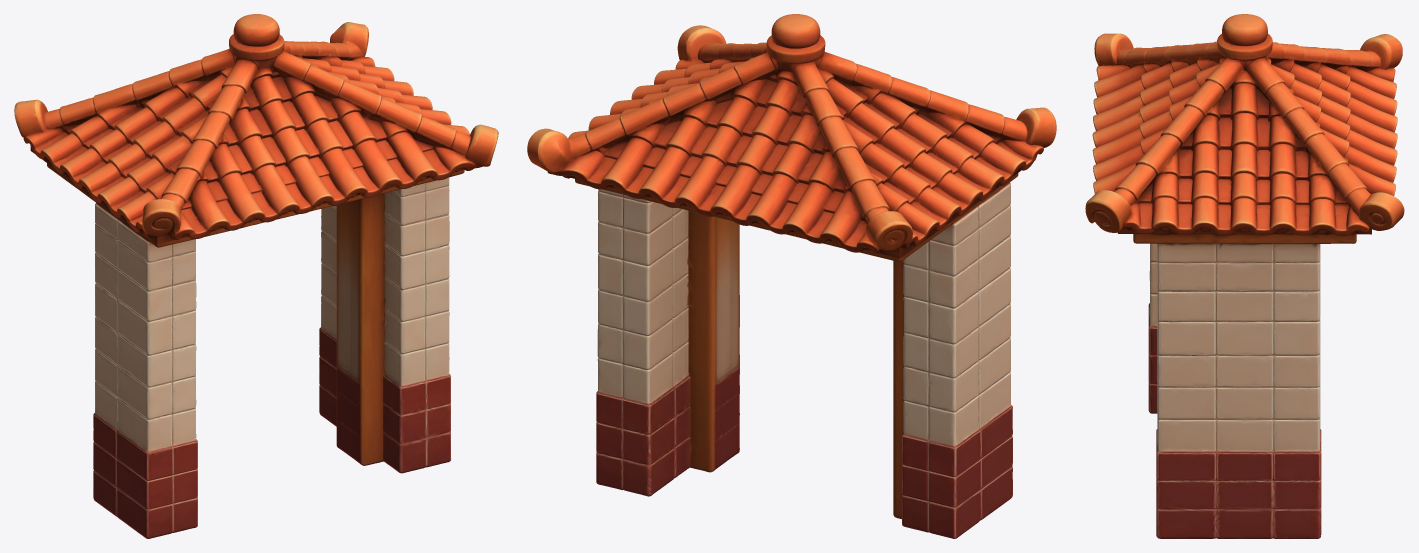
The model's file is inner-courtyard-gate.glb.
3 views of the same model, side by side, from view 1: azimuth 30°, elevation 25°; view 2: azimuth 150°, elevation 25°; view 3: azimuth 270°, elevation 25° (orthographic). The views are drawn at different scales.
Visible parts, largest first — view 1: tripo_node_1aba2e9d-d21e-412d-ac24-e4a6516aee95; view 2: tripo_node_1aba2e9d-d21e-412d-ac24-e4a6516aee95; view 3: tripo_node_1aba2e9d-d21e-412d-ac24-e4a6516aee95.
Boxes of the visible parts, x1,y1,x2,y2 form: tripo_node_1aba2e9d-d21e-412d-ac24-e4a6516aee95: (14,14,498,538); tripo_node_1aba2e9d-d21e-412d-ac24-e4a6516aee95: (527,14,1056,538); tripo_node_1aba2e9d-d21e-412d-ac24-e4a6516aee95: (1085,14,1404,538).
Bounding box in the file's own units: 0.8387 × 1 × 0.6461.
Materials: 1 (1 with a texture image).
